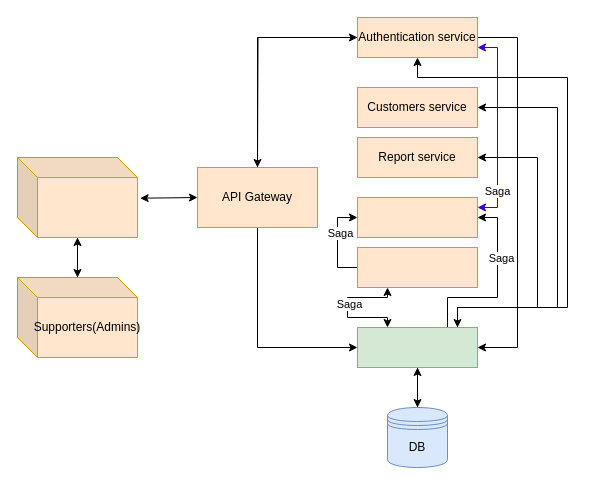
This 594x485 diagram has some shape labels left out. The shapes that lost their labels are listed below. From the top down, each one's box as (x1, y1, x2, y2) in pixels, then its label:
(16, 156, 138, 238): BFF's
(356, 196, 478, 238): Support(Admin) service
(356, 326, 478, 368): Accounting service
